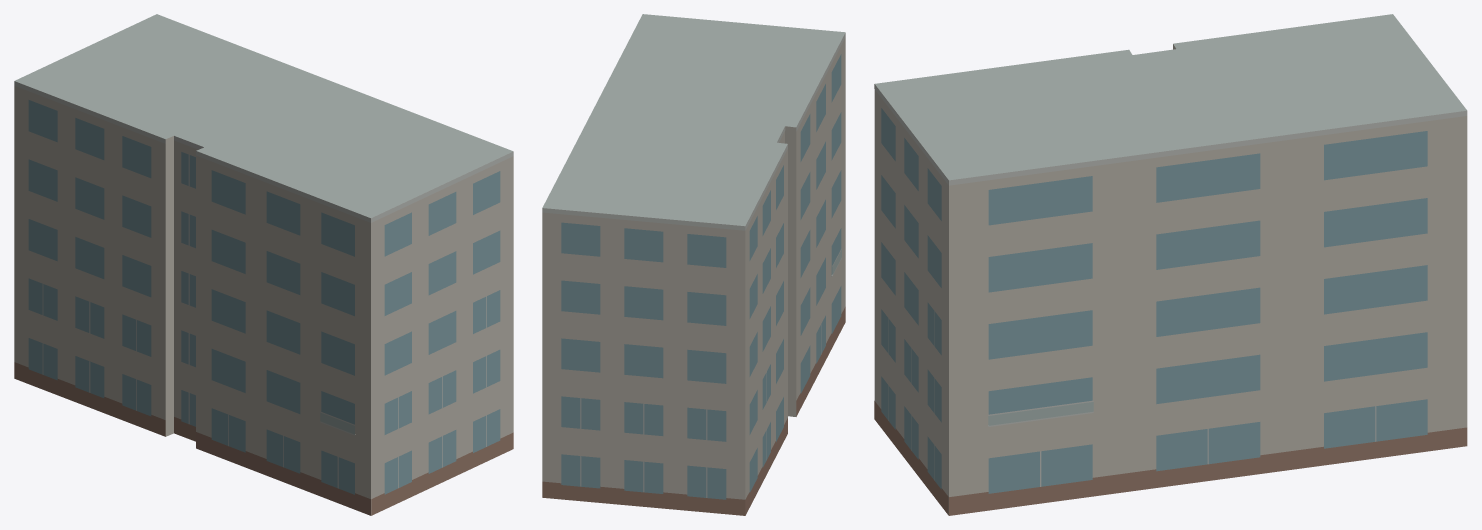
File: survey-upis-32620536.glb
3 renders of one model, left to right at view 1: azimuth 30°, elevation 25°; view 2: azimuth 150°, elevation 25°; view 3: azimuth 270°, elevation 25°, orthographic. The views are drawn at different scales.
Parts seen in each view (by area): view 1: survey-upis-32620536.tmp; view 2: survey-upis-32620536.tmp; view 3: survey-upis-32620536.tmp.
Boxes of the visible parts, x1=… form: survey-upis-32620536.tmp: x1=14, y1=14, x2=513, y2=515; survey-upis-32620536.tmp: x1=542, y1=14, x2=845, y2=515; survey-upis-32620536.tmp: x1=874, y1=14, x2=1467, y2=515.
Bounding box in the file's own units: 16.6 × 15.6 × 24.99.
